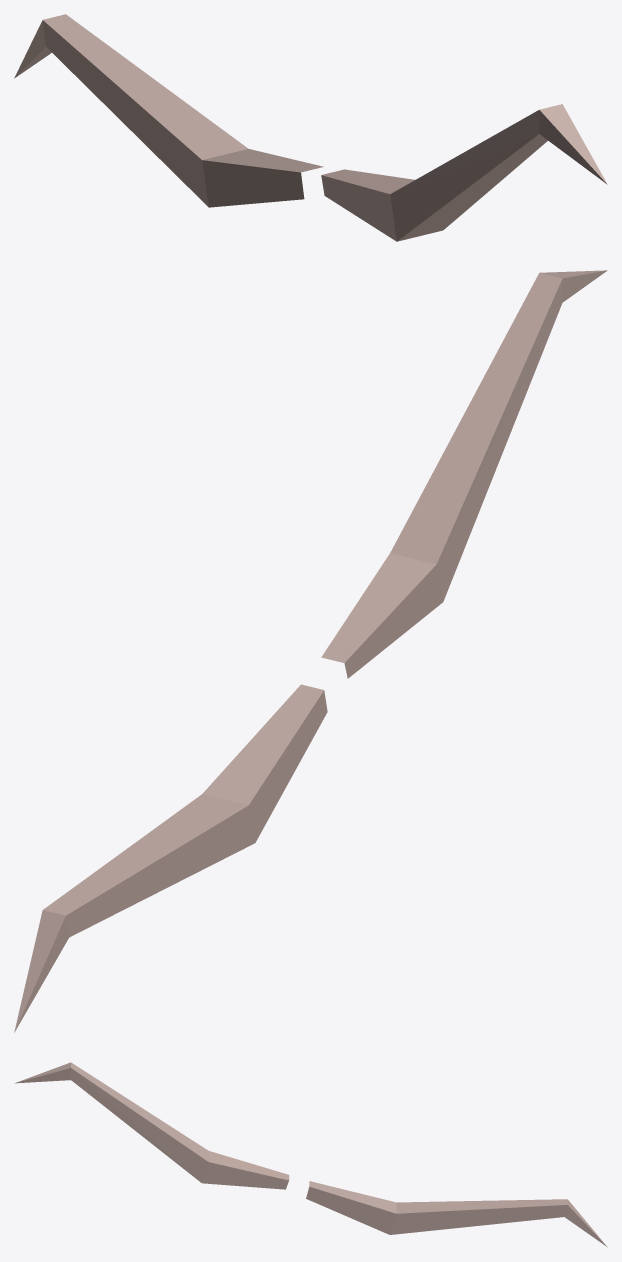
3 renders of one model, top to bottom at view 1: azimuth 30°, elevation 25°; view 2: azimuth 150°, elevation 25°; view 3: azimuth 270°, elevation 25°, orthographic. The views are drawn at different scales.
Size of the model in its own units: 8 by 60 by 177.
1 material, 1 textured.
